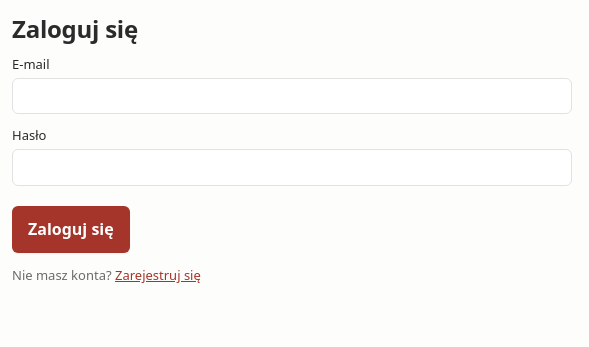
Scenario: LoginPage › shows an invalid-credentials banner on a 401 response
Type "user@test.pl" into the field labelled "E-mail" at [292, 96], box [12,78,572,114]
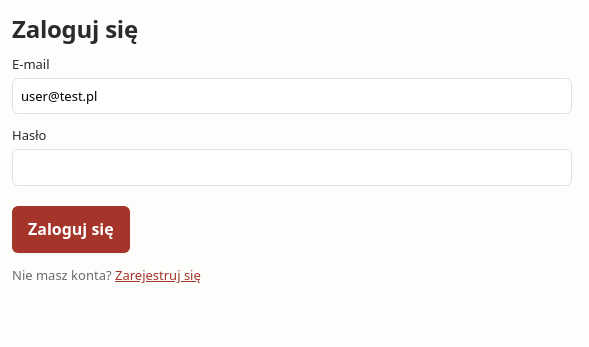
Type "password123" into the password field labelled "Hasło" at [292, 168], box [12,149,572,186]
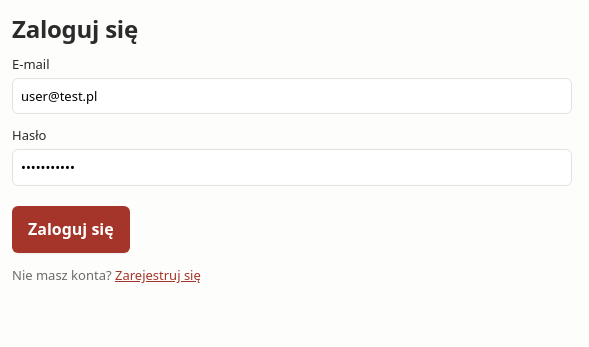
Click the button "Zaloguj się" at [71, 230], box [12,206,130,253]
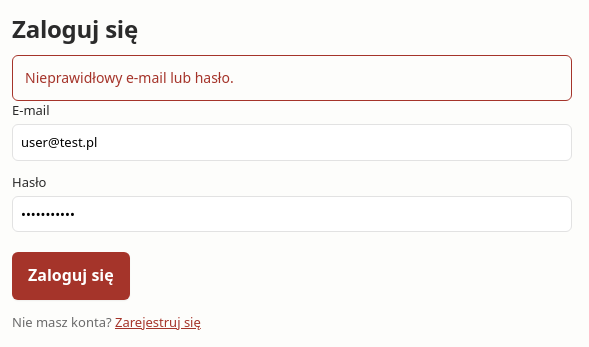
Now the text "Nieprawidłowy e-mail lub hasło." is shown, box [12,55,572,101]
